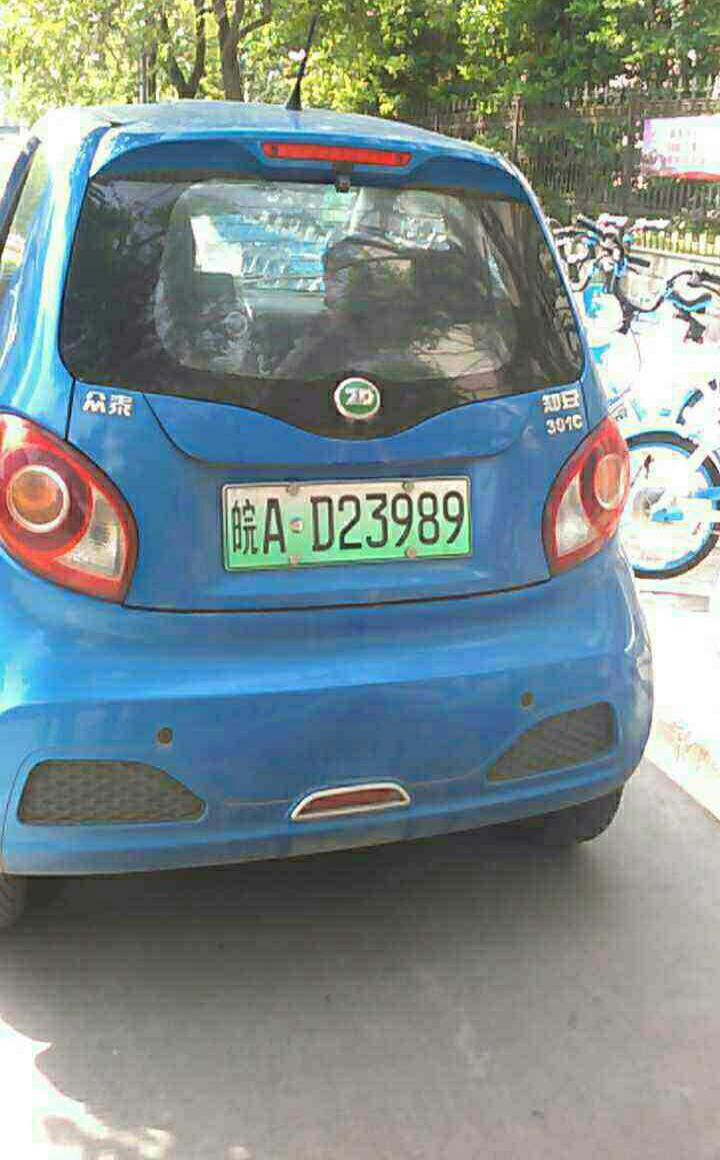car_green: (221, 482, 471, 563)
